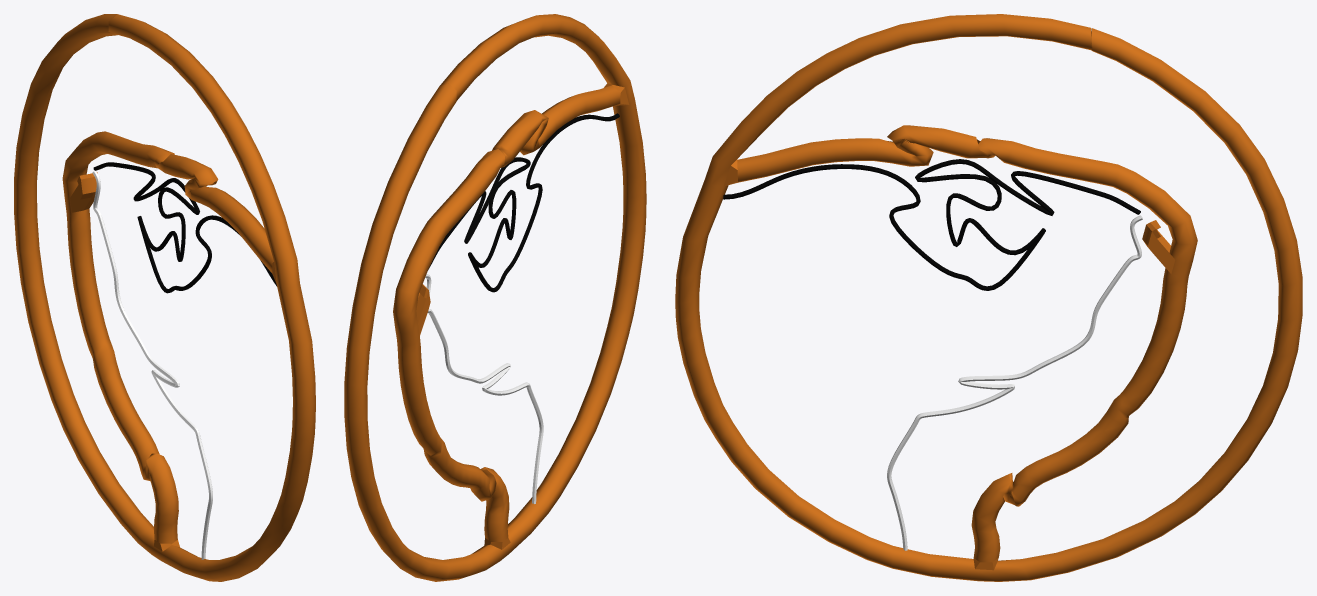
3 views of the same model, side by side, from view 1: azimuth 30°, elevation 25°; view 2: azimuth 150°, elevation 25°; view 3: azimuth 270°, elevation 25° (orthographic). The views are drawn at different scales.
Parts seen in each view (by area): view 1: defaultBrush2Main, pCylinder1, pCylinder2; view 2: defaultBrush2Main, pCylinder1, pCylinder2; view 3: defaultBrush2Main, pCylinder1, pCylinder2.
Part boxes in pixels (bbox=[...]): defaultBrush2Main: bbox=[14, 14, 315, 581]; pCylinder1: bbox=[93, 162, 276, 293]; pCylinder2: bbox=[92, 171, 212, 559]; defaultBrush2Main: bbox=[344, 14, 646, 581]; pCylinder1: bbox=[428, 113, 619, 292]; pCylinder2: bbox=[425, 274, 543, 503]; defaultBrush2Main: bbox=[675, 14, 1302, 581]; pCylinder1: bbox=[723, 159, 1140, 290]; pCylinder2: bbox=[887, 215, 1142, 550].
Size of the model in its own units: 0.00263 by 0.062 by 0.0621.
